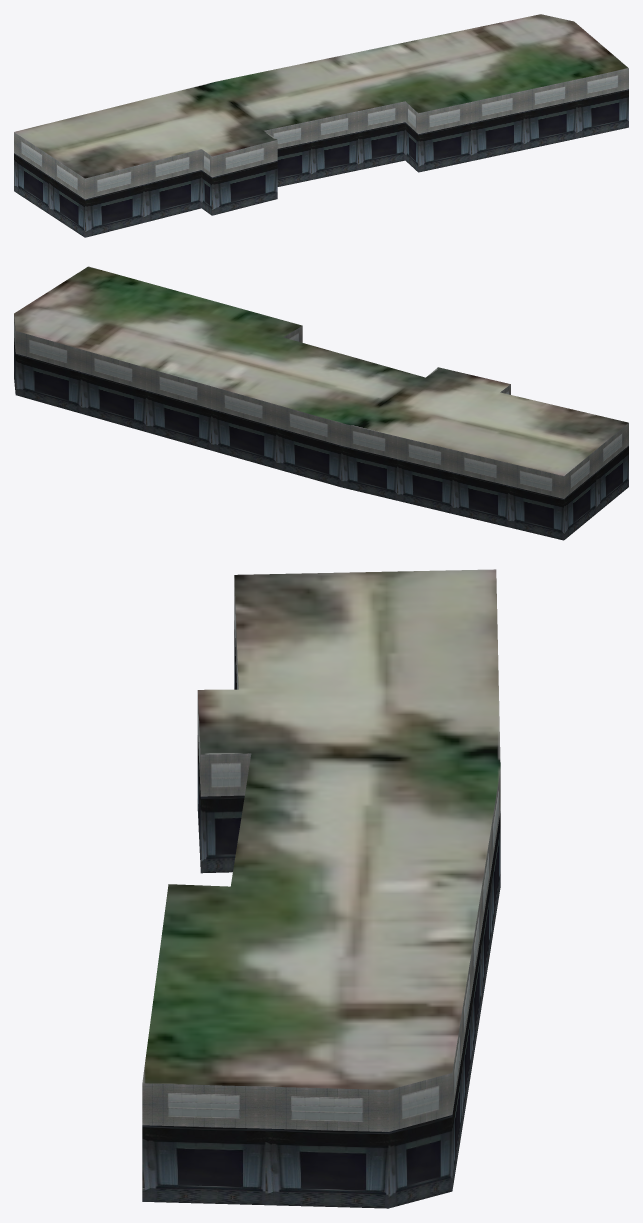
3 views of the same model, one above another, from view 1: azimuth 30°, elevation 25°; view 2: azimuth 150°, elevation 25°; view 3: azimuth 270°, elevation 25° (orthographic). The views are drawn at different scales.
Parts seen in each view (by area): view 1: SketchUp (×13); view 2: SketchUp (×7); view 3: SketchUp (×9).
Part boxes in pixels (x1,y1,x2,y2): SketchUp (×13): (14,14,628,237); SketchUp (×7): (14,266,628,540); SketchUp (×9): (142,569,500,1208).
Size of the model in its own units: 48.13 by 14 by 5.11.
Materials: 3 (3 with a texture image).
